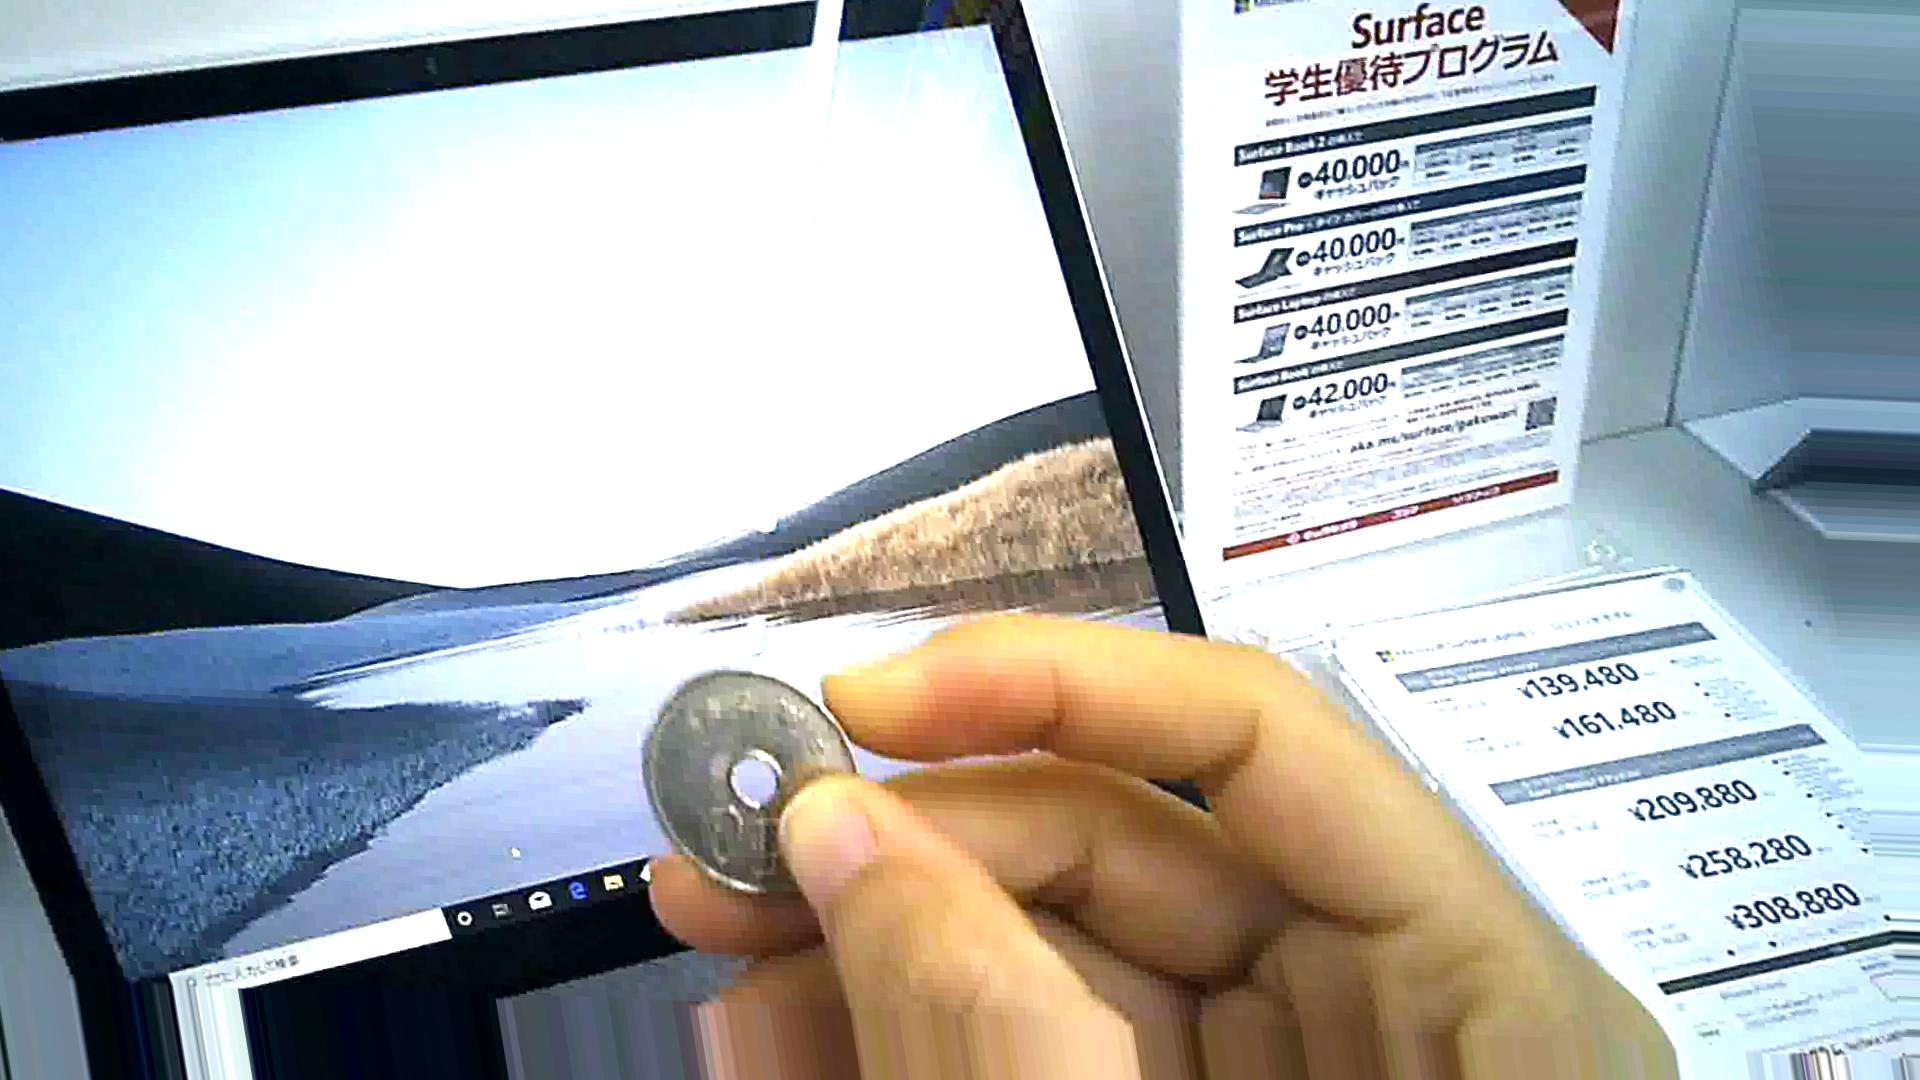50 Yen: (637, 663, 880, 903)
